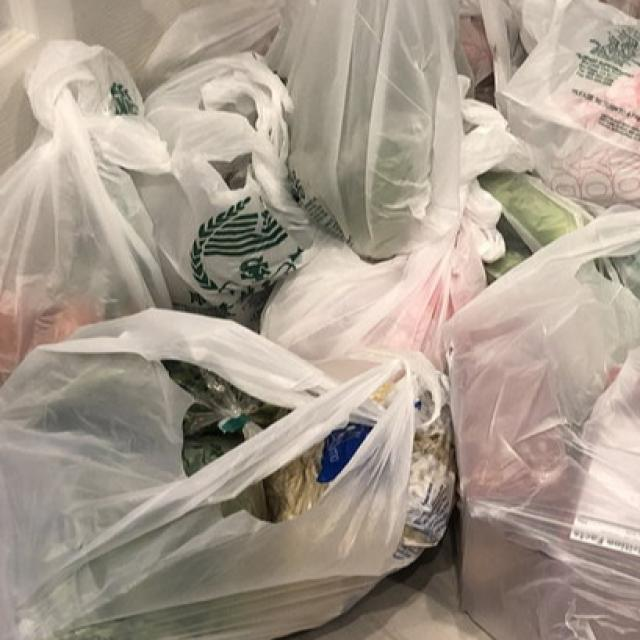Single-layer Plastic: (0, 309, 445, 639), (446, 210, 640, 640), (261, 99, 529, 366), (0, 41, 171, 382), (266, 0, 462, 259), (136, 52, 314, 327), (482, 0, 640, 206)
